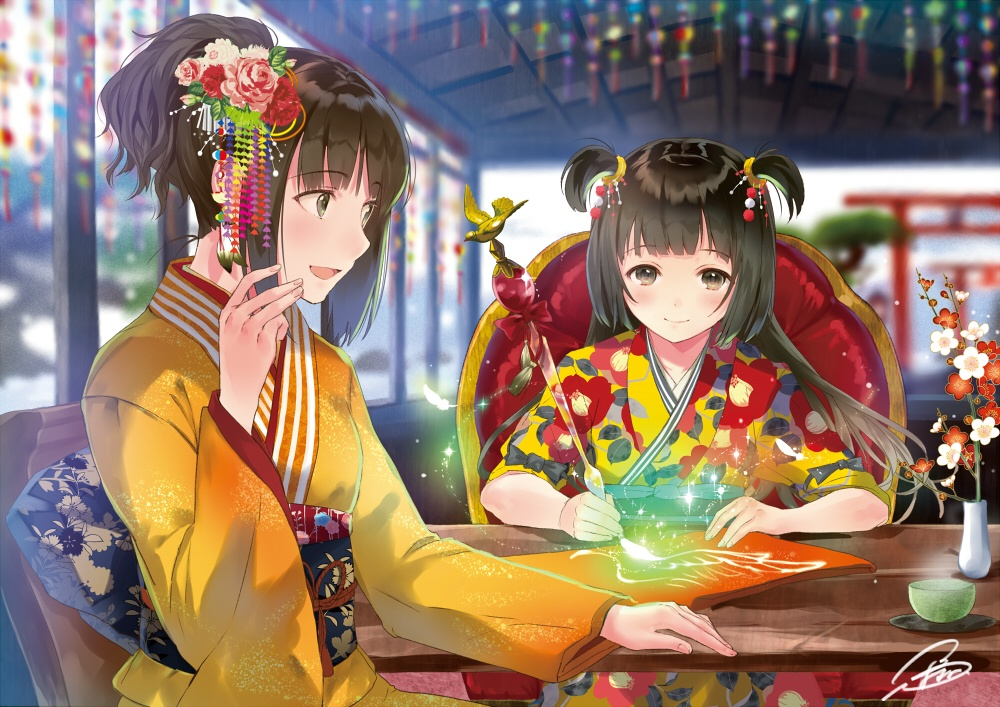纸片人正脸: (559, 141, 809, 349)
